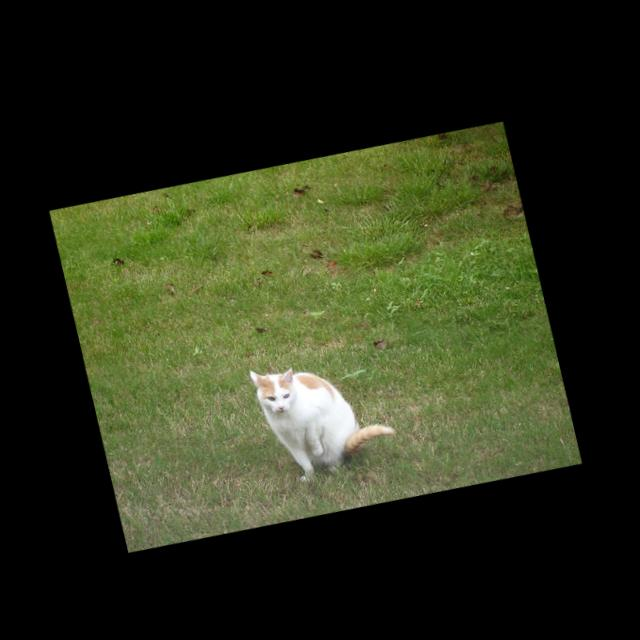animals: (251, 358, 301, 410)
